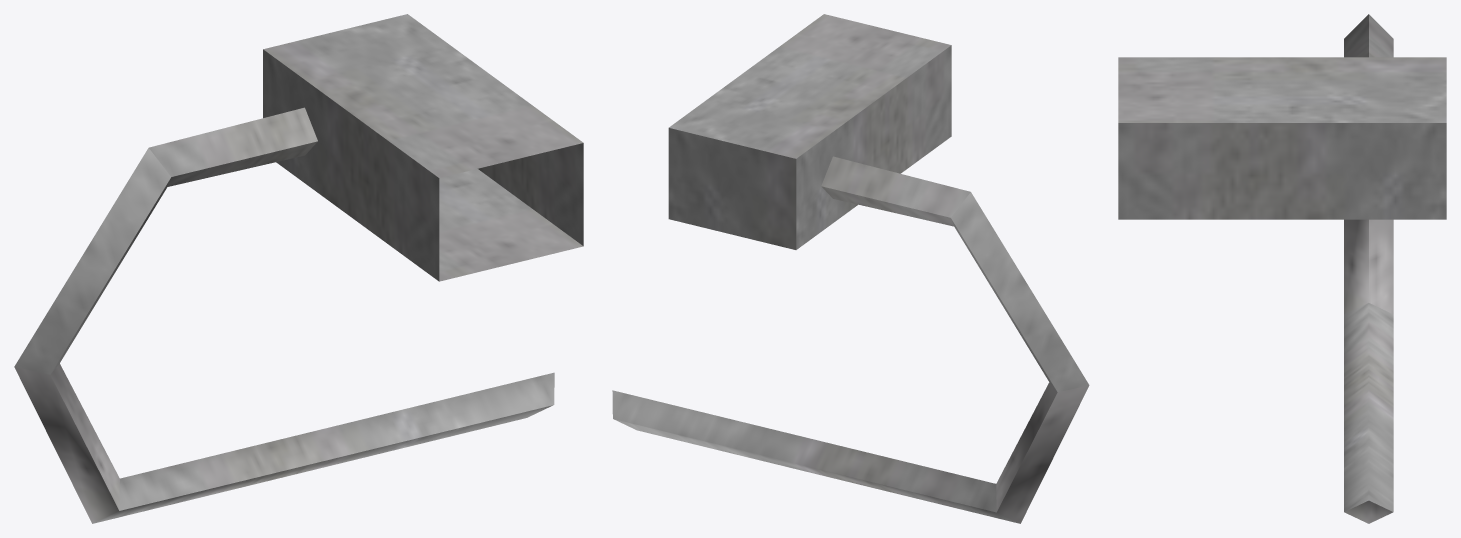
The model's file is Carrier_02.glb.
3 views of the same model, side by side, from view 1: azimuth 30°, elevation 25°; view 2: azimuth 150°, elevation 25°; view 3: azimuth 270°, elevation 25° (orthographic). The views are drawn at different scales.
Visible parts, largest first — view 1: Carrier_02; view 2: Carrier_02; view 3: Carrier_02.
Part boxes in pixels (x1=…): Carrier_02: x1=14, y1=14, x2=583, y2=523; Carrier_02: x1=612, y1=14, x2=1089, y2=523; Carrier_02: x1=1118, y1=14, x2=1446, y2=523.
Bounding box in the file's own units: 0.1694 × 0.1175 × 0.0956.
Materials: 1 (1 with a texture image).
